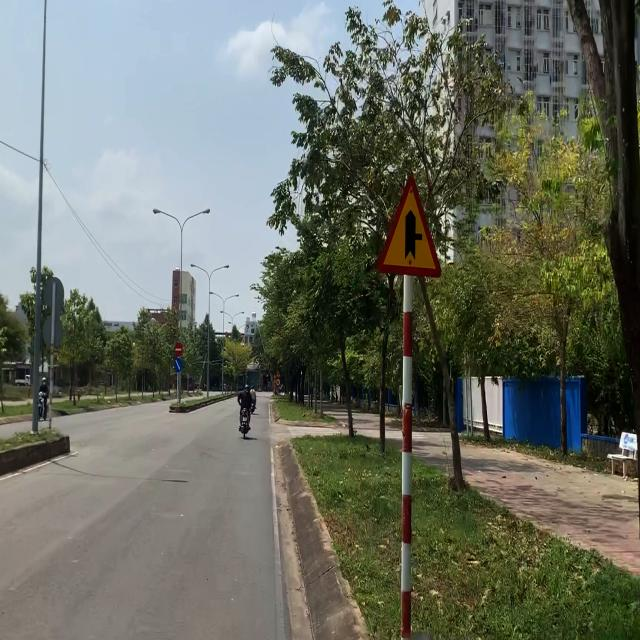Cam nguoc chieu: (174, 341, 183, 357)
Giao voi duong khong uu tien: (377, 173, 443, 277), (276, 368, 281, 378)
Hieu lenh: (174, 357, 183, 373)
Toc do toi da: (275, 378, 281, 387)
